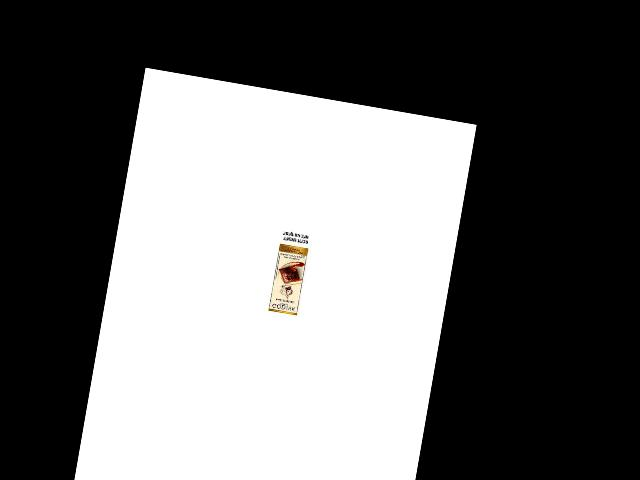chocolate: (268, 241, 311, 317)
